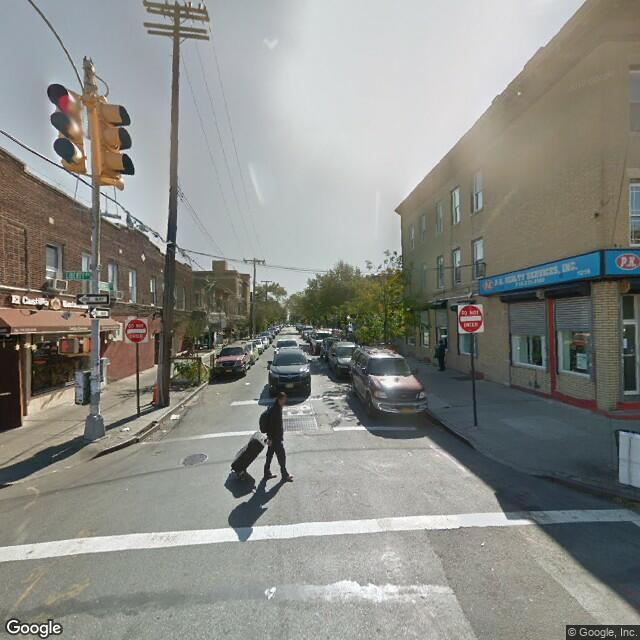litter: (167, 415, 186, 425), (120, 426, 134, 438)
